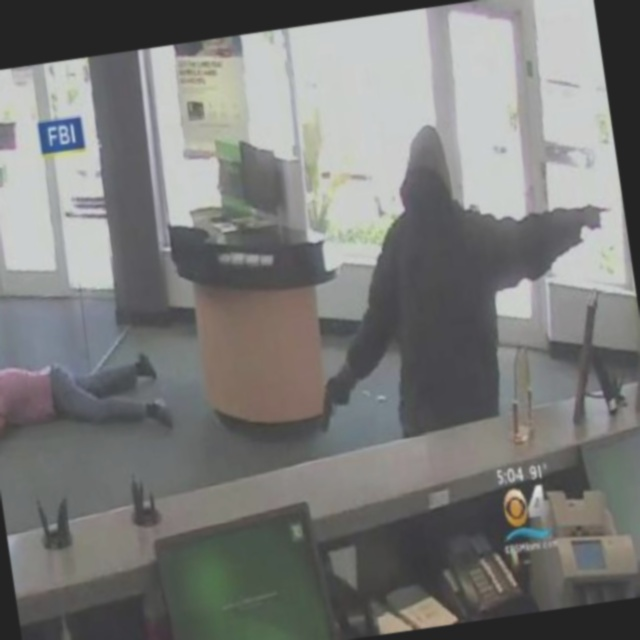gun: (308, 370, 362, 437)
